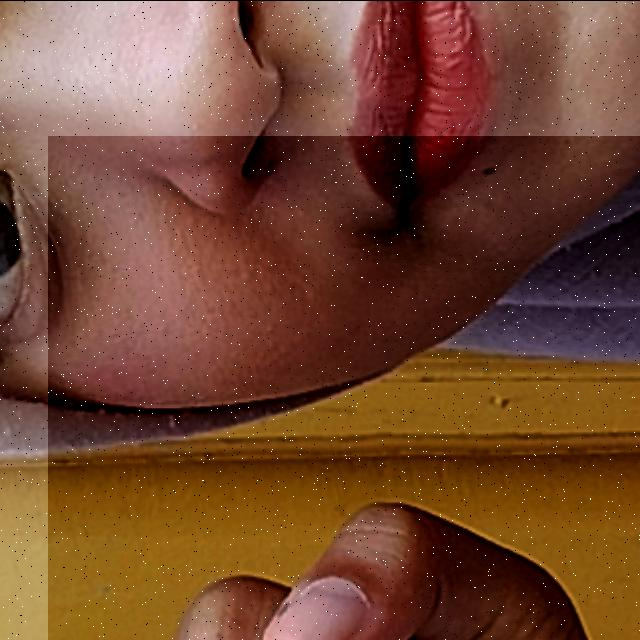baik: (48, 135, 640, 640)
